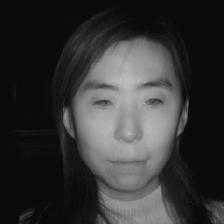happy: (43, 6, 210, 198)
